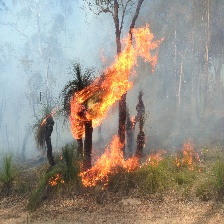fire: (47, 28, 162, 138), (82, 141, 172, 189), (177, 137, 207, 180), (47, 168, 66, 188), (128, 113, 137, 128)
smoke: (3, 1, 79, 154), (146, 1, 222, 134)
